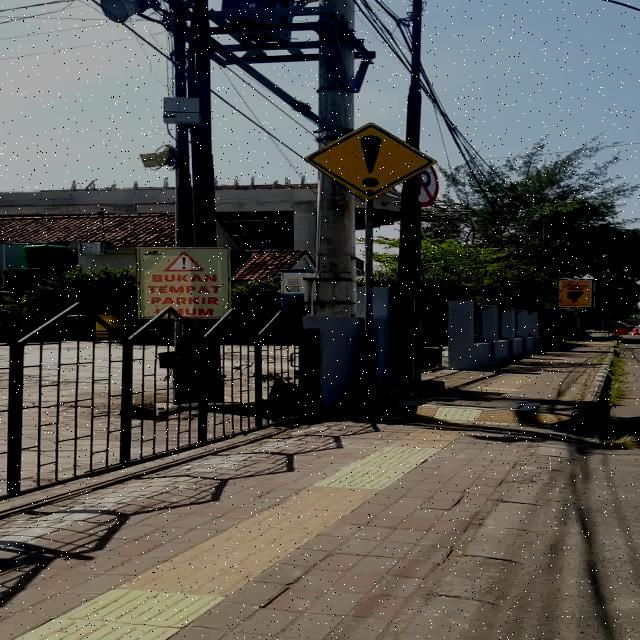Hati-Hati: (302, 122, 438, 199)
